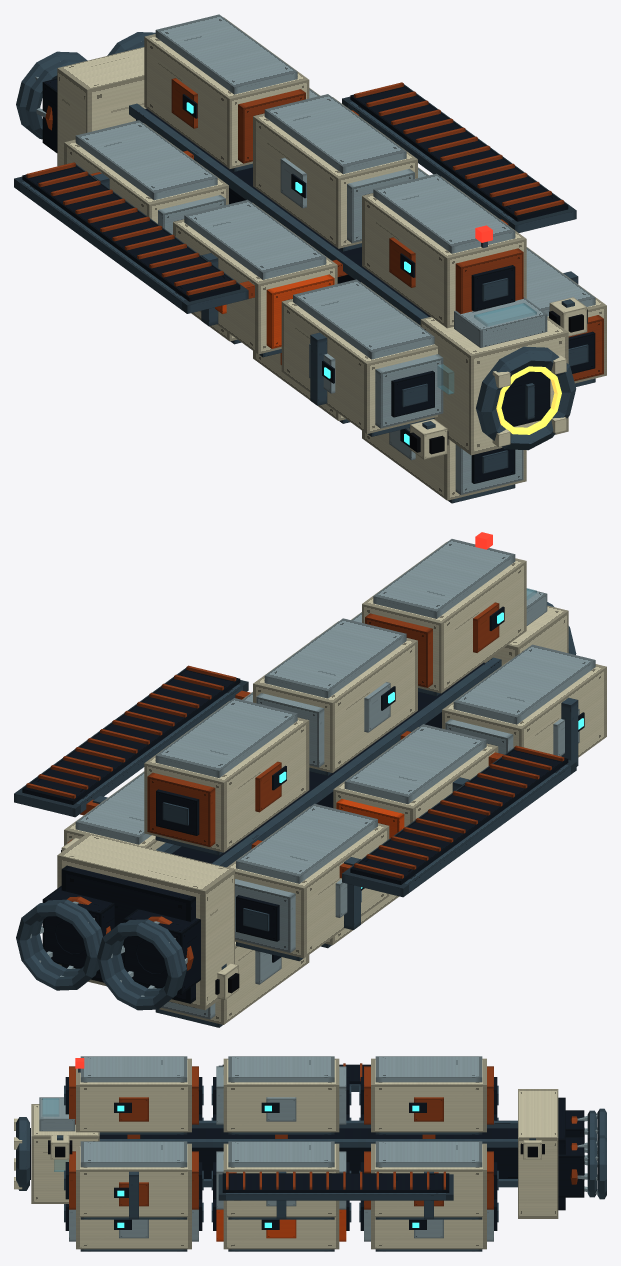
File: ship_01_berthedcarrier.glb
3 renders of one model, top to bottom at view 1: azimuth 30°, elevation 25°; view 2: azimuth 150°, elevation 25°; view 3: azimuth 270°, elevation 25°, orthographic. The views are drawn at different scales.
Parts seen in each view (by area): view 1: Ship_01_BerthedCarrier_Hull / module; view 2: Ship_01_BerthedCarrier_Hull / module; view 3: Ship_01_BerthedCarrier_Hull / module.
Boxes of the visible parts, x1,y1,x2,y2 form: Ship_01_BerthedCarrier_Hull / module: (14, 14, 606, 503); Ship_01_BerthedCarrier_Hull / module: (14, 532, 606, 1027); Ship_01_BerthedCarrier_Hull / module: (14, 1056, 606, 1251).
Bounding box in the file's own units: 5.58 × 3.66 × 10.85.
11 materials, 11 textured.
